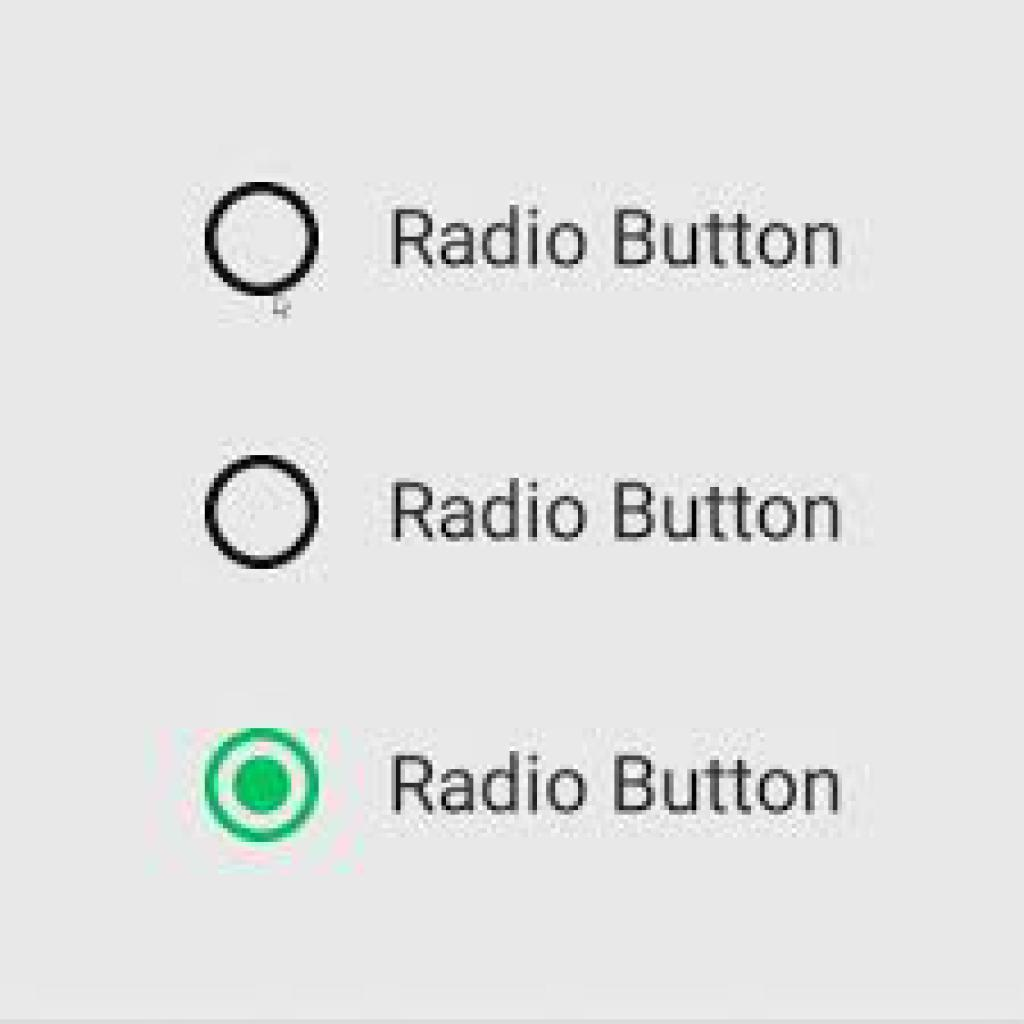radio: (189, 696, 339, 864), (191, 439, 325, 573), (195, 176, 327, 298)
